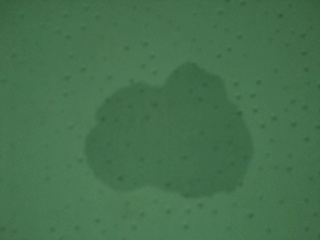Water_detected: (94, 83, 210, 181)
